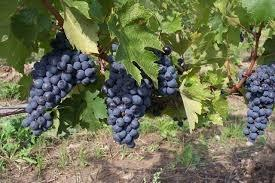Grape Rotten: (20, 49, 98, 136), (100, 56, 152, 148), (242, 63, 274, 144)
